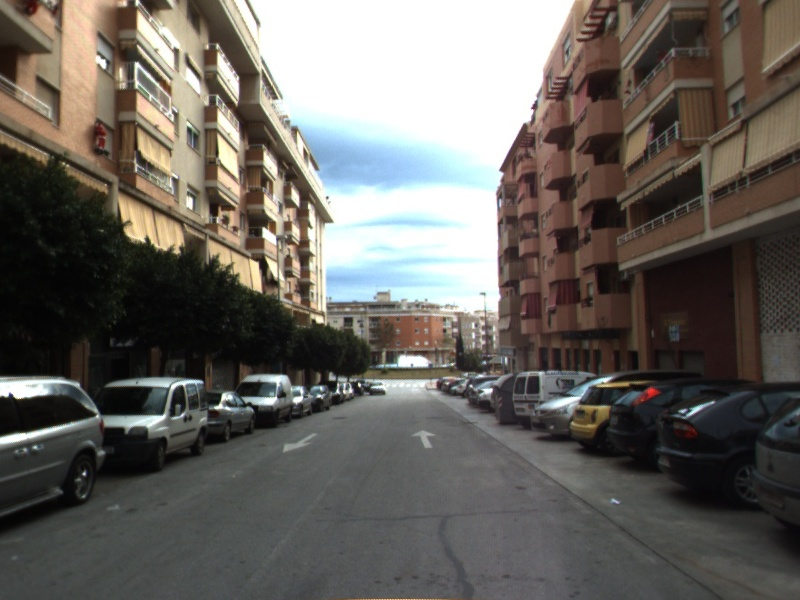STRAIGHT: (409, 428, 438, 450)
